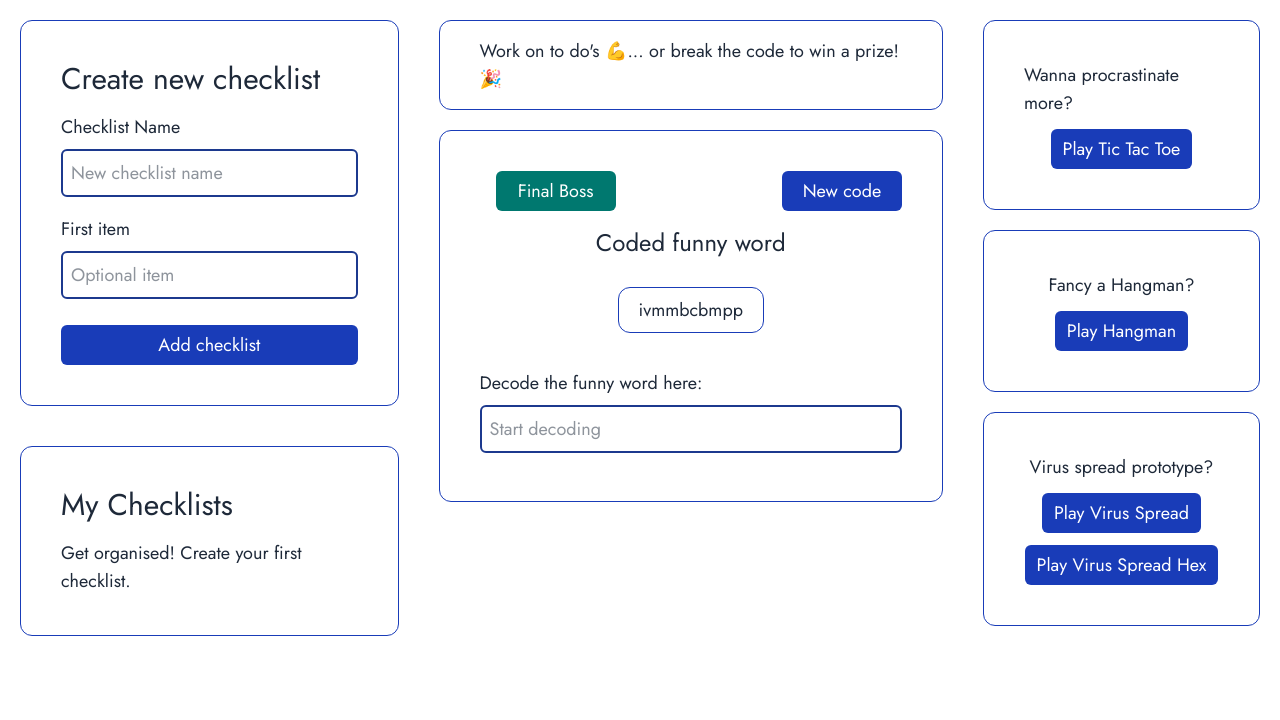
Test: App › creates a checklist with an optional first item
Type "Team launch   " into the field with placeholder "New checklist name". click: (209, 173)
box: [61,149,358,197]
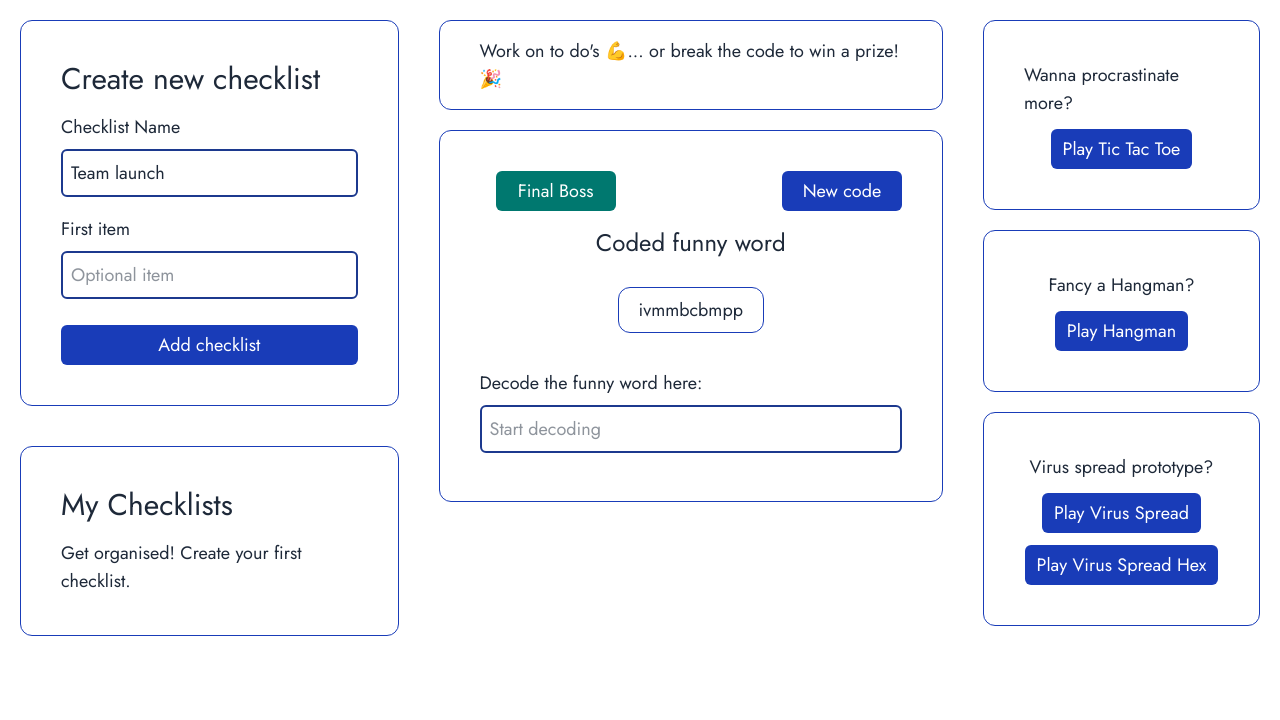
Type "Initial task   " into the field with placeholder "Optional item". click: (209, 275)
box: [61,251,358,299]
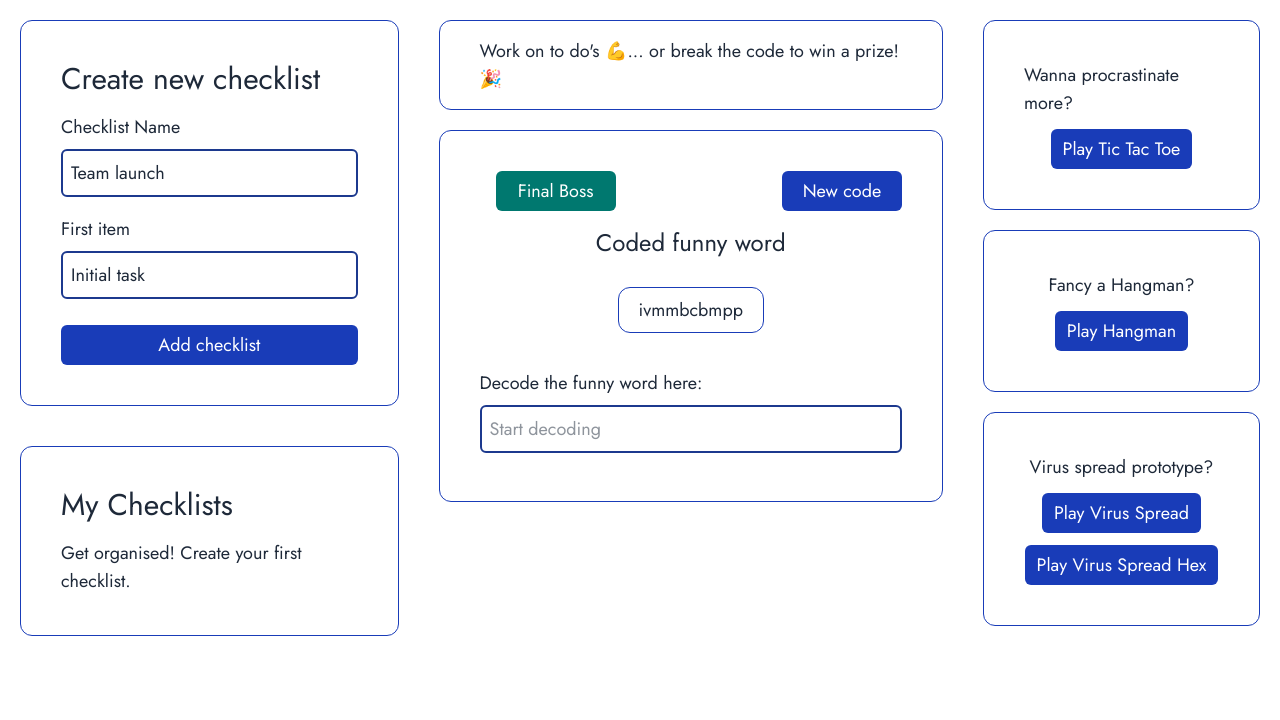
Click the button "Add checklist". click: click(209, 345)
box: [61,325,358,365]
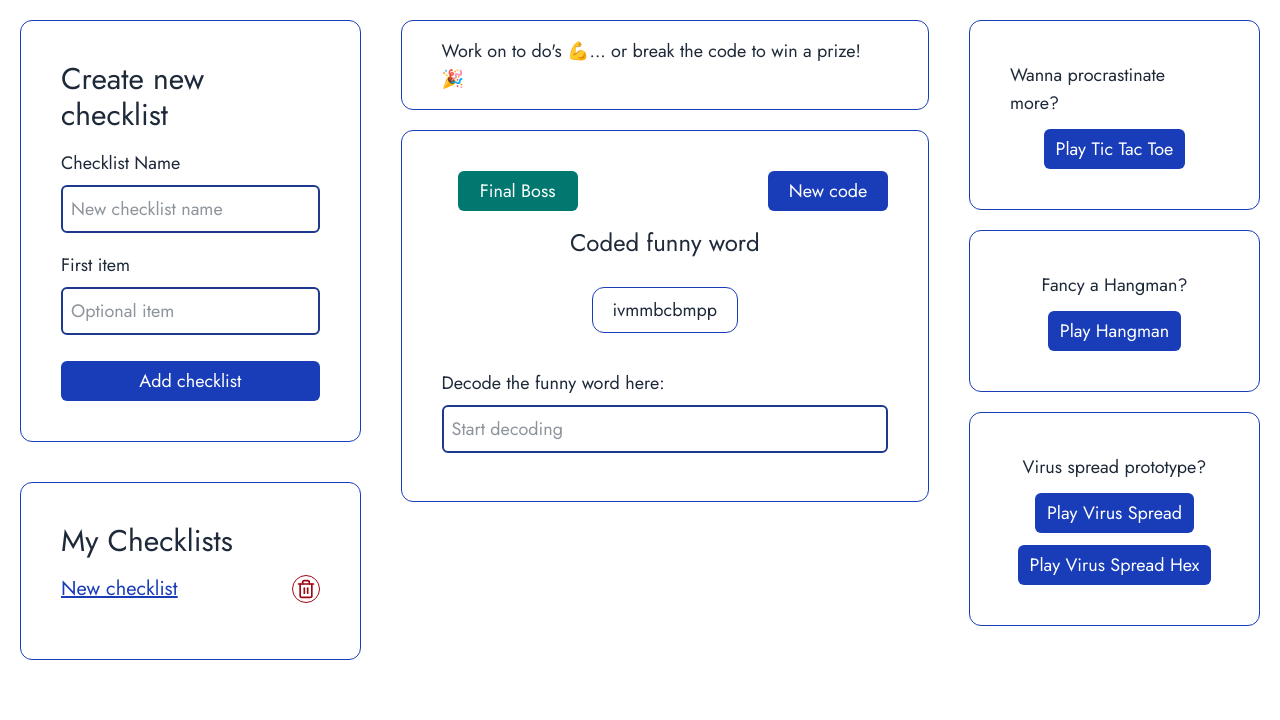
Now the link "New checklist" is shown, box [61,575,178,603]
Now the field with placeholder "New checklist name" is empty, box [61,185,320,233]
Now the field with placeholder "Optional item" is empty, box [61,287,320,335]
